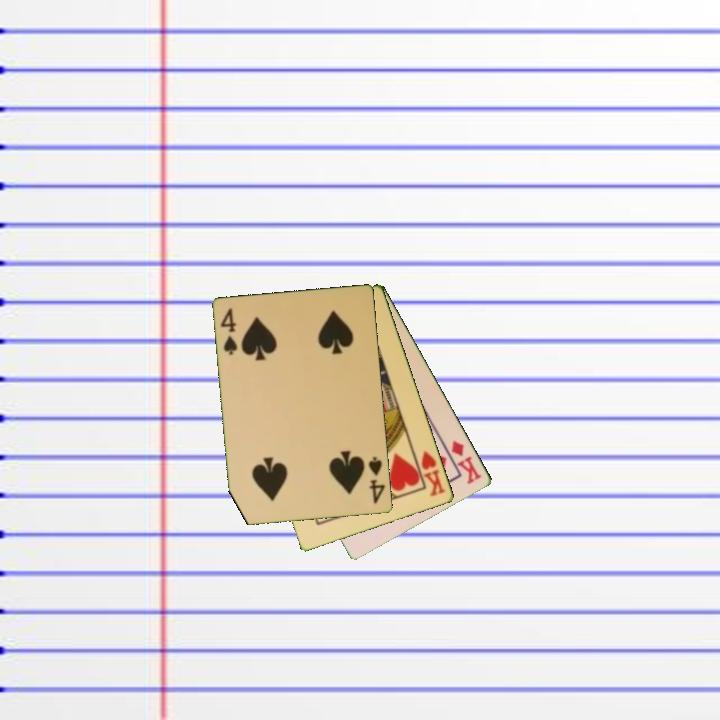4s: (217, 305, 241, 358), (365, 453, 388, 507)
Kd: (448, 437, 485, 487)
Kh: (411, 447, 449, 500)
